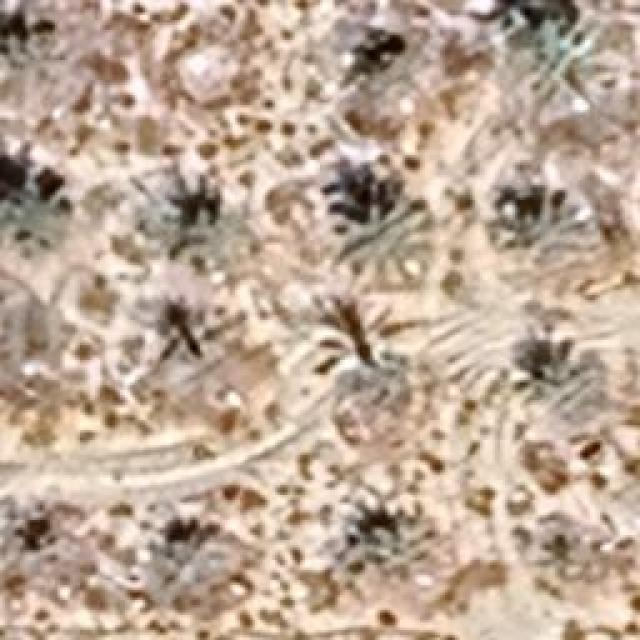PalmTree: (96, 85, 203, 362), (330, 195, 435, 290), (522, 17, 612, 125), (488, 181, 588, 261), (162, 518, 258, 600), (516, 336, 606, 422), (313, 296, 409, 370), (346, 511, 446, 581), (155, 172, 230, 262), (339, 365, 439, 425), (108, 66, 391, 85), (0, 182, 70, 255), (8, 524, 70, 586), (0, 16, 70, 64), (464, 0, 548, 25)
